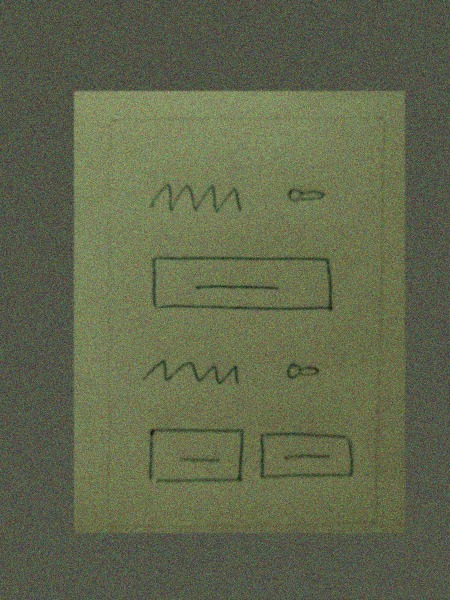button: (144, 250, 348, 323), (143, 425, 252, 491), (255, 429, 362, 485)
switch: (276, 352, 331, 387), (282, 184, 339, 210)
text: (137, 351, 252, 401), (139, 176, 258, 221)
